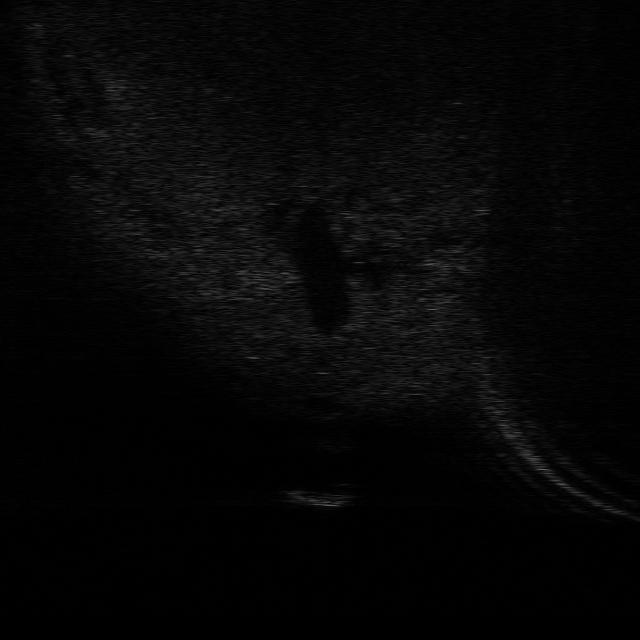cube: (276, 487, 356, 509)
